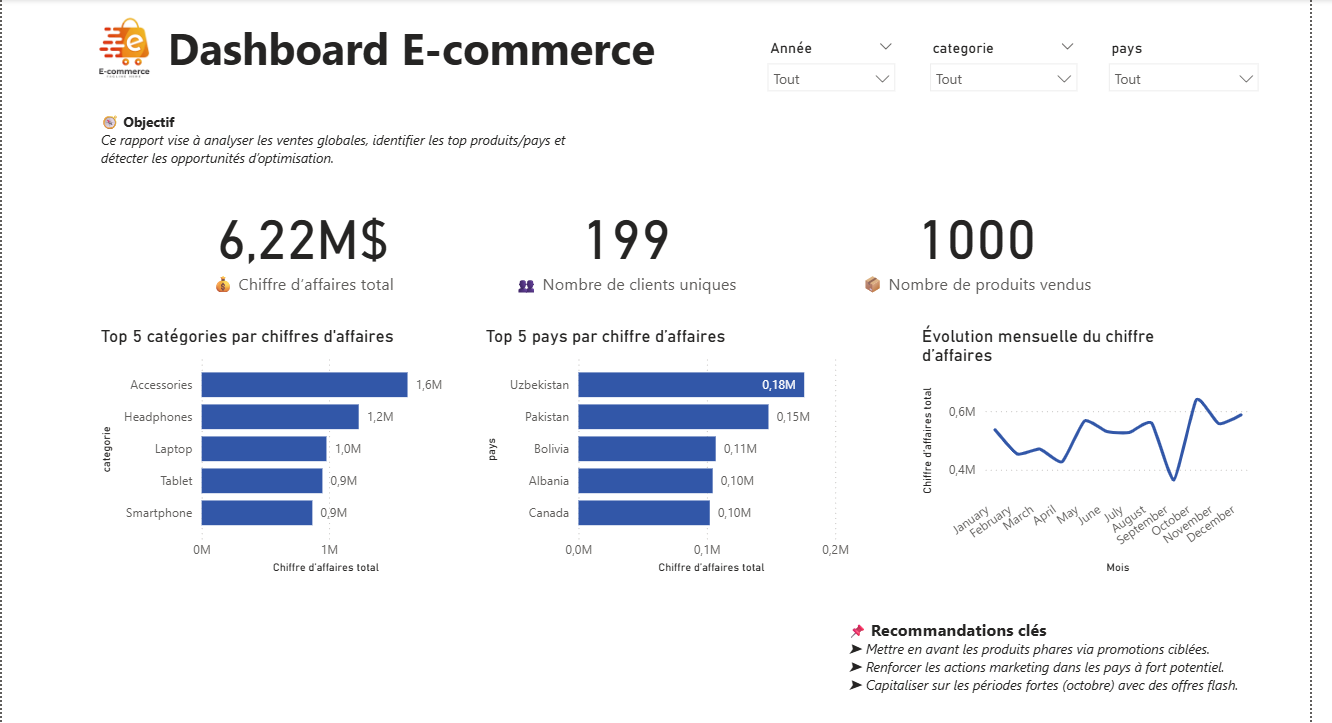

Layout of this report page (visuals, bound fields, positions):
{"tool":"powerbi","page":{"name":"Page 1","canvas":[1280,720],"ordinal":0},"visuals":[{"type":"card","fields":{"Values":["Clients.CA_Total"]},"box":[188,171,212,137],"z":0},{"type":"card","fields":{"Values":["Clients.Nb_Clients_Uniques"]},"box":[492,171,238,137],"z":1000},{"type":"barChart","title":"Top 5 catégories par  chiffres d''affaires","fields":{"Y":["Clients.Chiffre d’affaires total"],"Category":["Produits.categorie"]},"box":[92,319,366,248],"z":2000},{"type":"clusteredBarChart","title":"Top 5 pays par chiffre d’affaires","fields":{"Category":["Clients.pays"],"Y":["Clients.Chiffre d’affaires total"]},"box":[468,319,375,248],"z":3000},{"type":"lineChart","title":"Évolution mensuelle du chiffre d’affaires","fields":{"Y":["Clients.CA_Total"],"Category":["Commandes.MoisNom"]},"box":[895,319,331,248],"z":4000},{"type":"slicer","fields":{"Values":["Produits.categorie"]},"box":[897,34,164,62],"z":5000},{"type":"slicer","fields":{"Values":["Clients.pays"]},"box":[1073,34,167,62],"z":6000},{"type":"slicer","fields":{"Values":["Commandes.DateCommande","Commandes.DateMois"]},"box":[739,34,145,62],"z":7000},{"type":"textbox","box":[156,13,548,69],"z":8000},{"type":"image","box":[0,0,239,96],"z":9000},{"type":"card","title":"📦 Nombre de produits vendus","fields":{"Values":["CountNonNull(Commandes.commande_id)"]},"box":[834,171,239,137],"z":10000},{"type":"textbox","box":[823,600,403,84],"z":11000},{"type":"textbox","box":[92,106,484,65],"z":12000}]}

Visuals, with their boxes on the page's 1280x720 design canvas (x1, y1, x2, y2). These are canvas units, not pixel positions in the 1332x723 screenshot, which may show the page scaled, cropped or inside an application window:
card - Clients.CA_Total: x1=188, y1=171, x2=400, y2=308
card - Clients.Nb_Clients_Uniques: x1=492, y1=171, x2=730, y2=308
"Top 5 catégories par  chiffres d''affaires" barChart: x1=92, y1=319, x2=458, y2=567
"Top 5 pays par chiffre d’affaires" clusteredBarChart: x1=468, y1=319, x2=843, y2=567
"Évolution mensuelle du chiffre d’affaires" lineChart: x1=895, y1=319, x2=1226, y2=567
slicer - Produits.categorie: x1=897, y1=34, x2=1061, y2=96
slicer - Clients.pays: x1=1073, y1=34, x2=1240, y2=96
slicer - Commandes.DateCommande x Commandes.DateMois: x1=739, y1=34, x2=884, y2=96
textbox: x1=156, y1=13, x2=704, y2=82
image: x1=0, y1=0, x2=239, y2=96
"📦 Nombre de produits vendus" card: x1=834, y1=171, x2=1073, y2=308
textbox: x1=823, y1=600, x2=1226, y2=684
textbox: x1=92, y1=106, x2=576, y2=171
